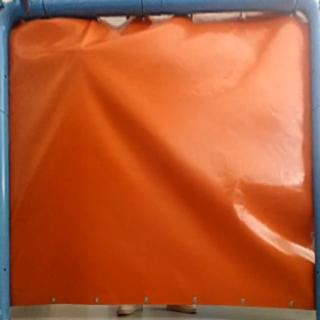Hit-hRxx: (70, 43, 89, 56)
